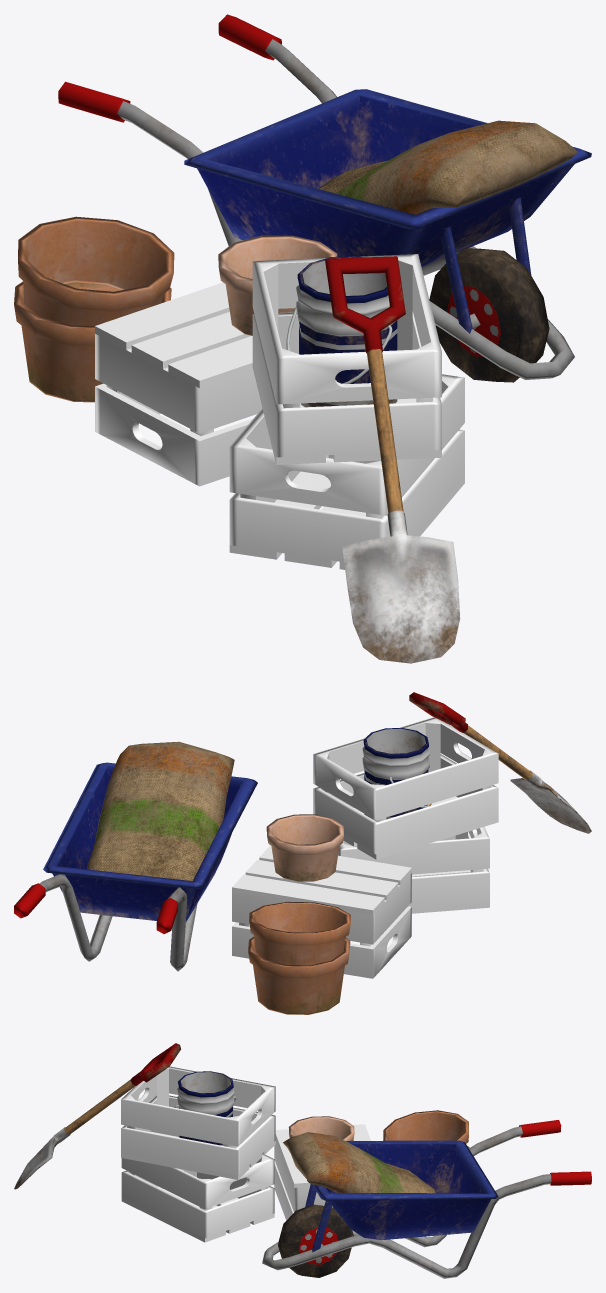
The model's file is a_sch_ground01_obj_farmtools01.gltf.
3 views of the same model, one above another, from view 1: azimuth 30°, elevation 25°; view 2: azimuth 150°, elevation 25°; view 3: azimuth 270°, elevation 25° (orthographic). The views are drawn at different scales.
Parts seen in each view (by area): view 1: farmtools_01_mesh_shape:a_sch_ground01_farmtools01, farmtools_01_mesh_shape:a_sch_room02_motif_box01, farmtools_01_mesh_shape:a_sch_ground01_farmtools02; view 2: farmtools_01_mesh_shape:a_sch_room02_motif_box01, farmtools_01_mesh_shape:a_sch_ground01_farmtools01, farmtools_01_mesh_shape:a_sch_ground01_farmtools02; view 3: farmtools_01_mesh_shape:a_sch_ground01_farmtools01, farmtools_01_mesh_shape:a_sch_room02_motif_box01, farmtools_01_mesh_shape:a_sch_ground01_farmtools02.
Boxes of the visible parts, x1,y1,x2,y2 form: farmtools_01_mesh_shape:a_sch_ground01_farmtools01: (14,14,591,402); farmtools_01_mesh_shape:a_sch_room02_motif_box01: (95,254,464,569); farmtools_01_mesh_shape:a_sch_ground01_farmtools02: (286,120,577,663); farmtools_01_mesh_shape:a_sch_room02_motif_box01: (232,717,498,978); farmtools_01_mesh_shape:a_sch_ground01_farmtools01: (14,762,350,1014); farmtools_01_mesh_shape:a_sch_ground01_farmtools02: (87,692,591,880); farmtools_01_mesh_shape:a_sch_ground01_farmtools01: (262,1110,591,1278); farmtools_01_mesh_shape:a_sch_room02_motif_box01: (121,1066,370,1242); farmtools_01_mesh_shape:a_sch_ground01_farmtools02: (14,1043,435,1193).
Size of what is drawn, in the model's own units: 1.73 by 0.9439 by 3.15.
Materials: 3 (2 with a texture image).
